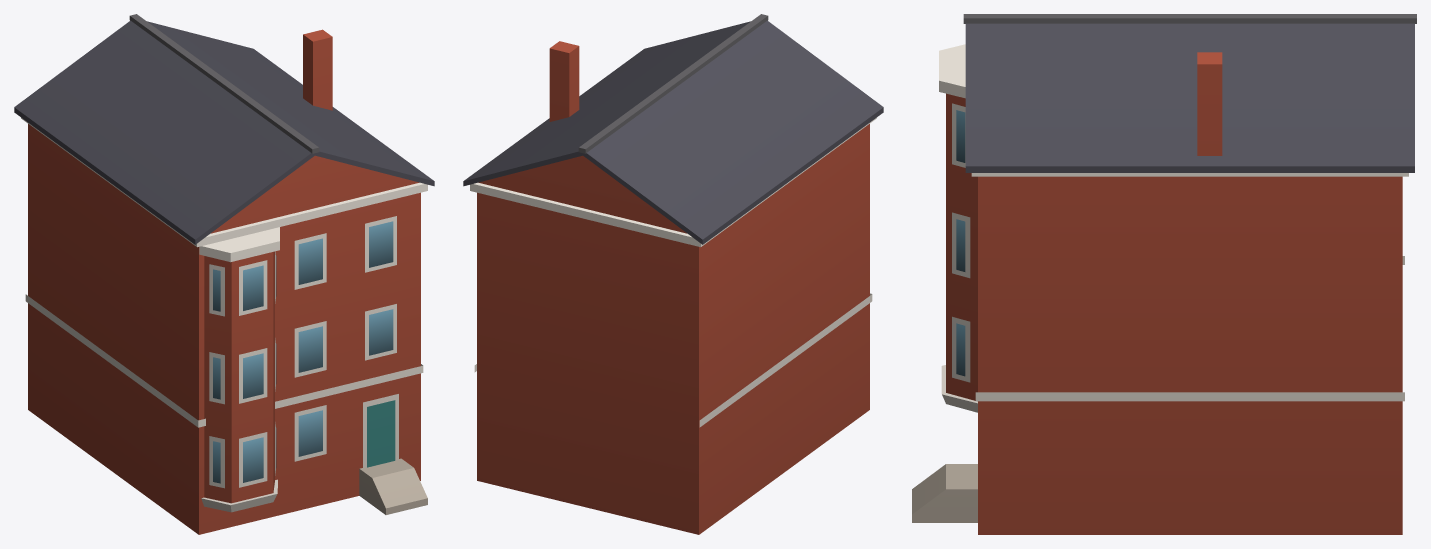
File: lane_e7_far.glb
3 renders of one model, left to right at view 1: azimuth 30°, elevation 25°; view 2: azimuth 150°, elevation 25°; view 3: azimuth 270°, elevation 25°, orthographic. The views are drawn at different scales.
Parts seen in each view (by area): view 1: lane_e7_far; view 2: lane_e7_far; view 3: lane_e7_far.
Part boxes in pixels (x1,y1,x2,y2): lane_e7_far: [14, 14, 434, 534]; lane_e7_far: [463, 14, 883, 534]; lane_e7_far: [912, 14, 1416, 534].
Size of the model in its own units: 9.7 by 14.68 by 14.26.
1 material, 1 textured.
